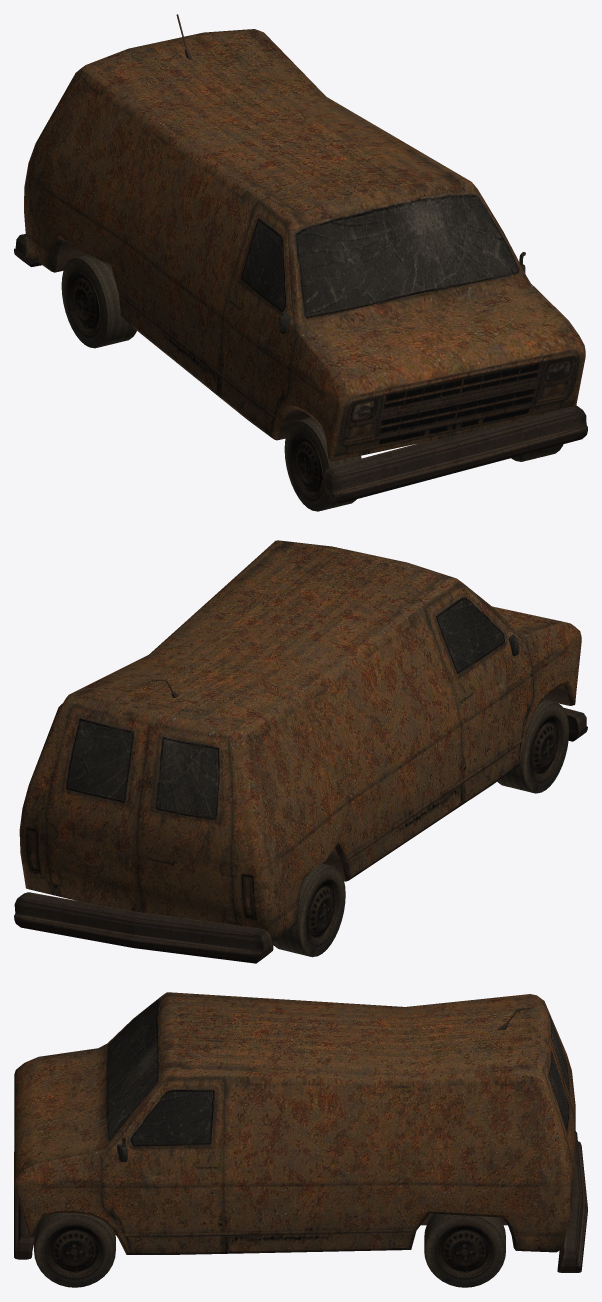
The model's file is van_3.obj.
The picture shows the model from 3 angles, top to bottom: view 1: azimuth 30°, elevation 25°; view 2: azimuth 150°, elevation 25°; view 3: azimuth 270°, elevation 25°; orthographic projection. The views are drawn at different scales.
Visible parts, largest first — view 1: van_3, van_3_wheel_rr, van_3_wheel_fr; view 2: van_3, van_3_wheel_rr, van_3_wheel_fr; view 3: van_3, van_3_wheel_rl, van_3_wheel_fl.
Part boxes in pixels (x1=…): van_3: x1=14, y1=14, x2=587, y2=503; van_3_wheel_rr: x1=61, y1=254, x2=136, y2=348; van_3_wheel_fr: x1=284, y1=417, x2=361, y2=511; van_3: x1=14, y1=540, x2=587, y2=963; van_3_wheel_rr: x1=273, y1=863, x2=345, y2=957; van_3_wheel_fr: x1=497, y1=699, x2=569, y2=793; van_3: x1=14, y1=992, x2=587, y2=1272; van_3_wheel_rl: x1=424, y1=1213, x2=505, y2=1287; van_3_wheel_fl: x1=34, y1=1213, x2=115, y2=1287.
Size of the model in its own units: 2.84 by 2.89 by 6.34.
